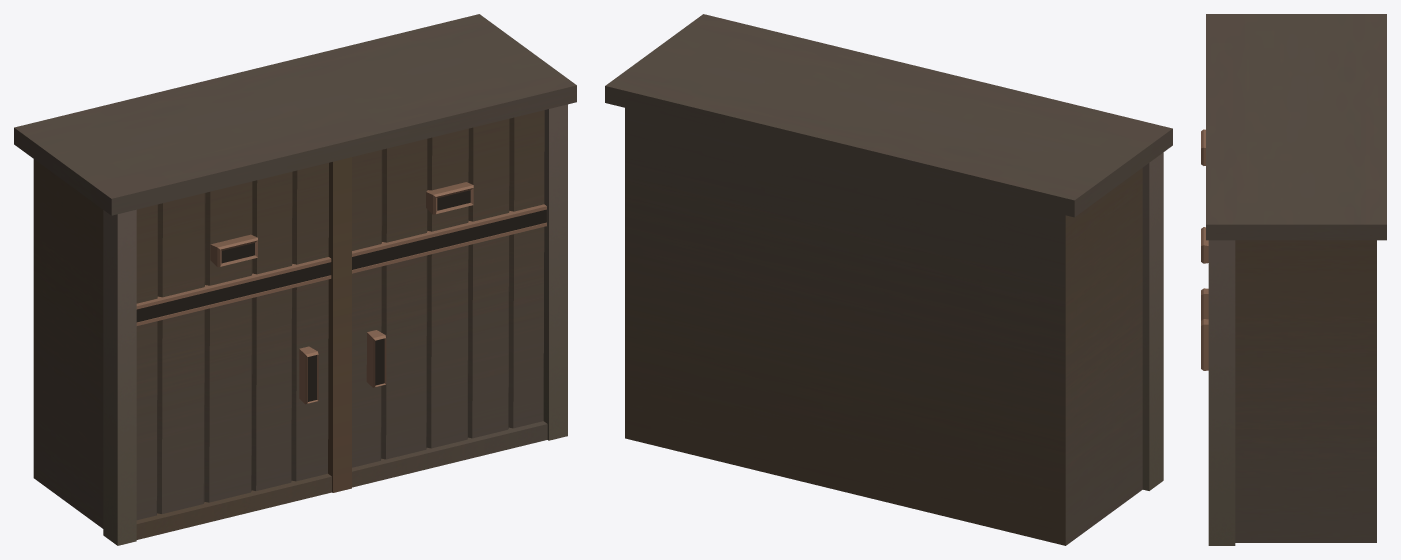
File: Cupboard_5.fbx
The picture shows the model from 3 angles, left to right: view 1: azimuth 30°, elevation 25°; view 2: azimuth 150°, elevation 25°; view 3: azimuth 270°, elevation 25°; orthographic projection. The views are drawn at different scales.
Visible parts, largest first — view 1: pCube798; view 2: pCube798; view 3: pCube798.
Part boxes in pixels (x1=…): pCube798: x1=14, y1=14, x2=576, y2=545; pCube798: x1=605, y1=14, x2=1172, y2=545; pCube798: x1=1201, y1=14, x2=1386, y2=545.
Bounding box in the file's own units: 190 × 137 × 70.84.
